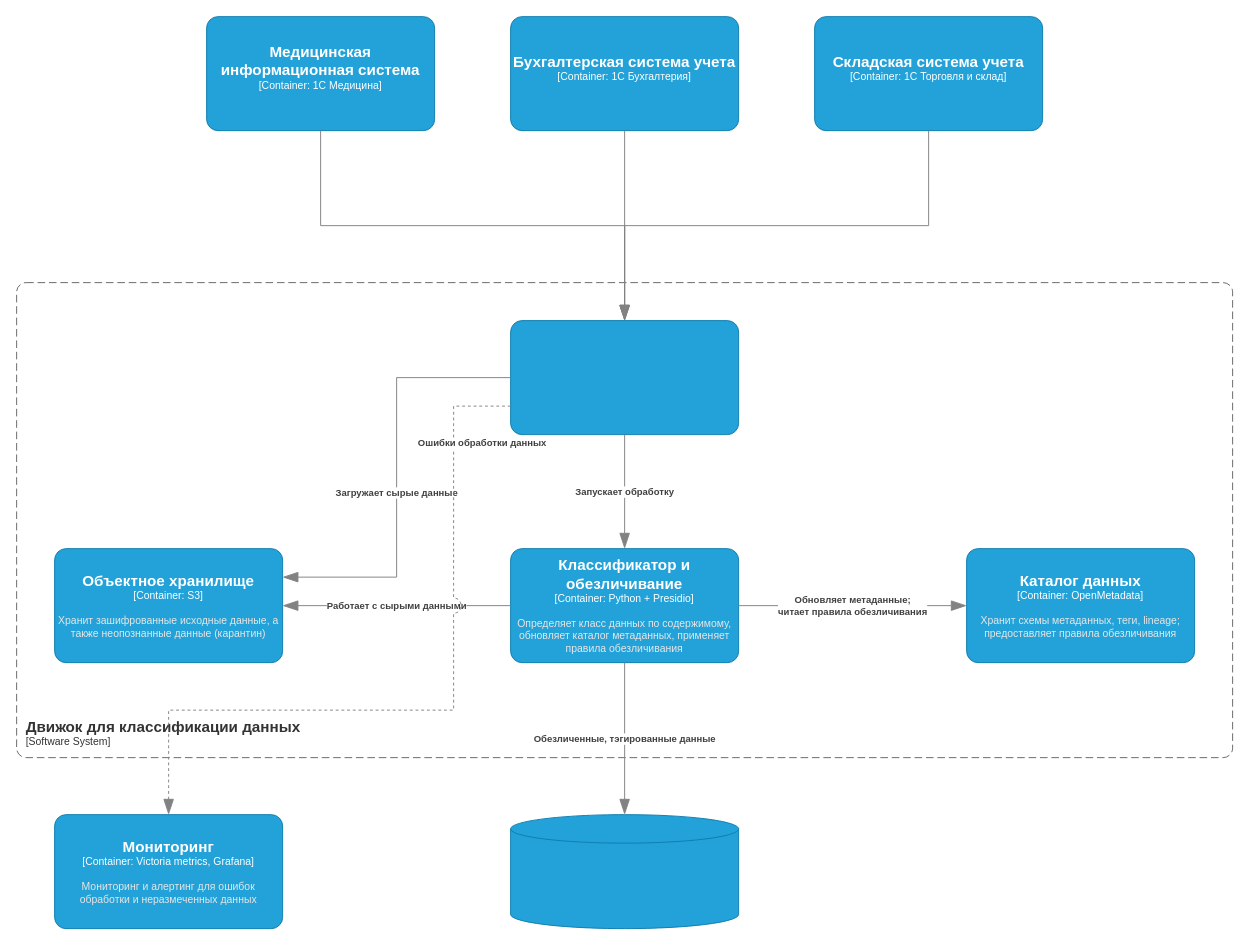
The diagram is 1249 pixels wide and 945 high, and some of its shapes have lost their labels. Here are the shapes that lost their labels. From the top down, the centre of each, then its label:
At point 624,377: "Оркестратор [Container: Airflow]".
At point 624,871: "OLAP [Container: Clickhouse] Хранилище аналитических данных".
